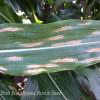Corn leaf blight: (1, 18, 99, 75)
